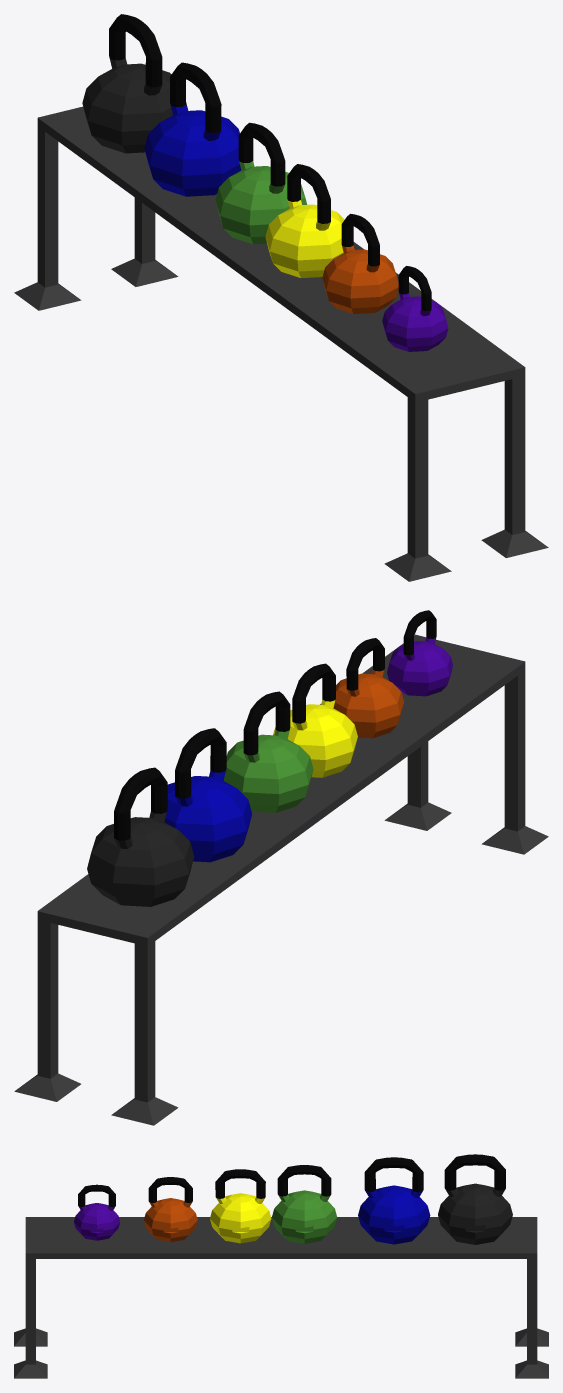
The model's file is ColorfulKettlebellDumbbellRack.fbx.
3 renders of one model, top to bottom at view 1: azimuth 30°, elevation 25°; view 2: azimuth 150°, elevation 25°; view 3: azimuth 270°, elevation 25°, orthographic. The views are drawn at different scales.
Visible parts, largest first — view 1: ColorfulKettleBellDumbbelRack; view 2: ColorfulKettleBellDumbbelRack; view 3: ColorfulKettleBellDumbbelRack.
Boxes of the visible parts, <box> form: ColorfulKettleBellDumbbelRack: <box>14,14,548,581</box>; ColorfulKettleBellDumbbelRack: <box>14,610,548,1125</box>; ColorfulKettleBellDumbbelRack: <box>14,1154,548,1378</box>.
Bounding box in the file's own units: 26.55 × 53.64 × 130.
